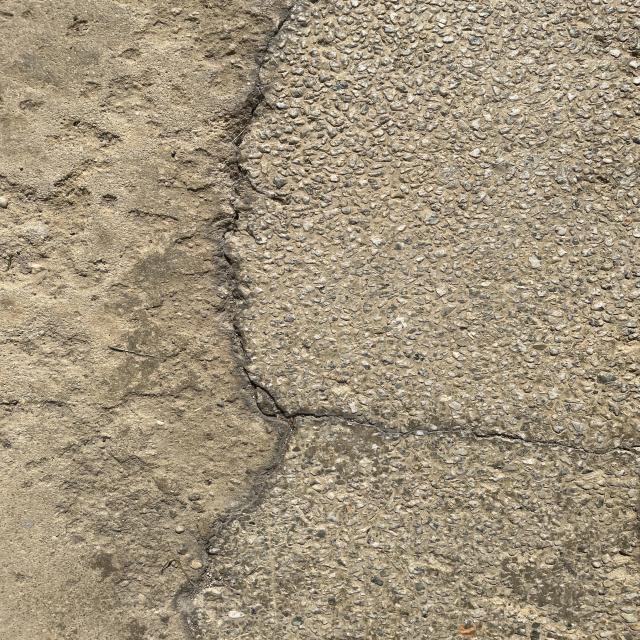Crack: (138, 1, 353, 634), (356, 353, 640, 492)
